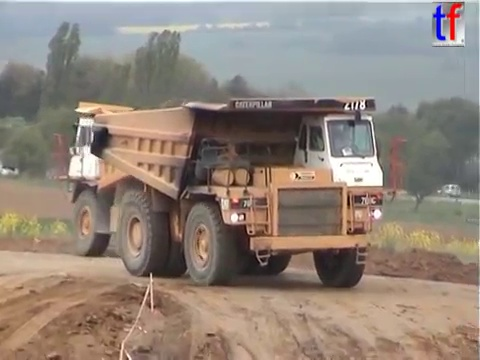truck: (86, 93, 410, 290), (51, 99, 294, 268)
